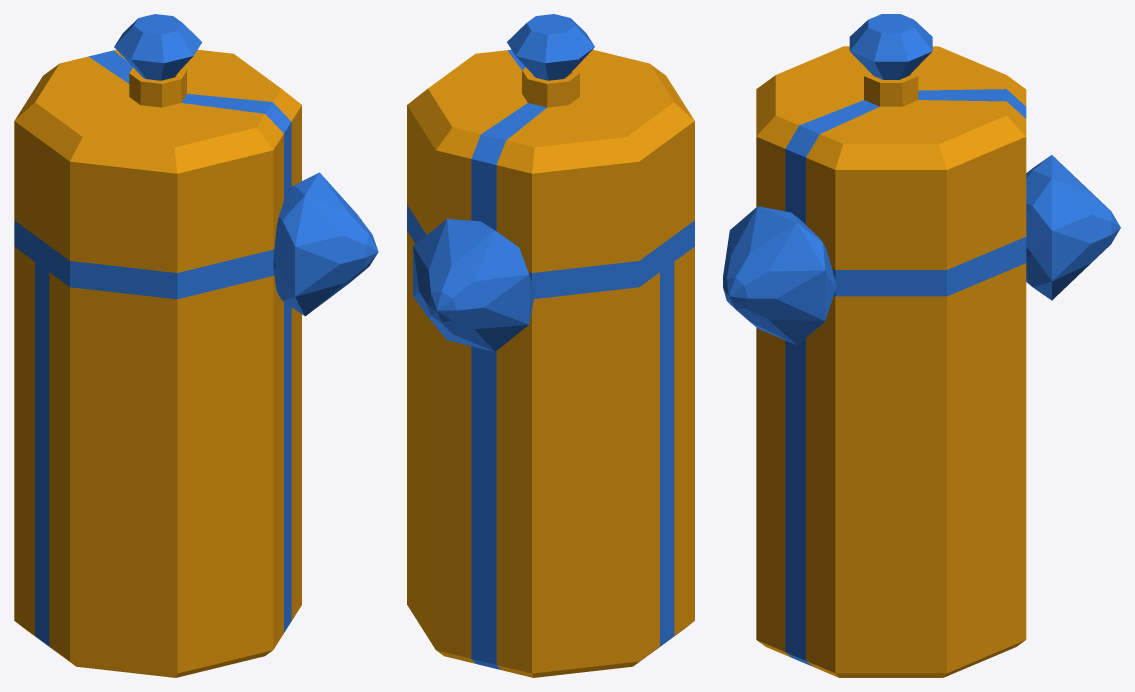
The model's file is LP_Reflector_135.fbx.
3 views of the same model, side by side, from view 1: azimuth 30°, elevation 25°; view 2: azimuth 150°, elevation 25°; view 3: azimuth 270°, elevation 25° (orthographic).
Visible parts, largest first — view 1: Cylinder.003; view 2: Cylinder.003; view 3: Cylinder.003.
Part boxes in pixels (<box>): Cylinder.003: <box>14,14,378,677</box>; Cylinder.003: <box>407,14,694,677</box>; Cylinder.003: <box>723,14,1120,677</box>.
Bounding box in the file's own units: 1.56 × 3.41 × 2.04.
